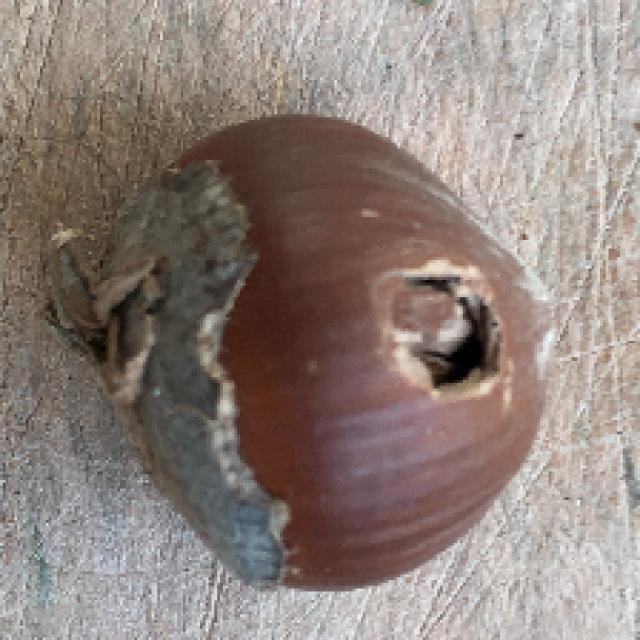damagedHazelnut: (56, 112, 563, 591)
